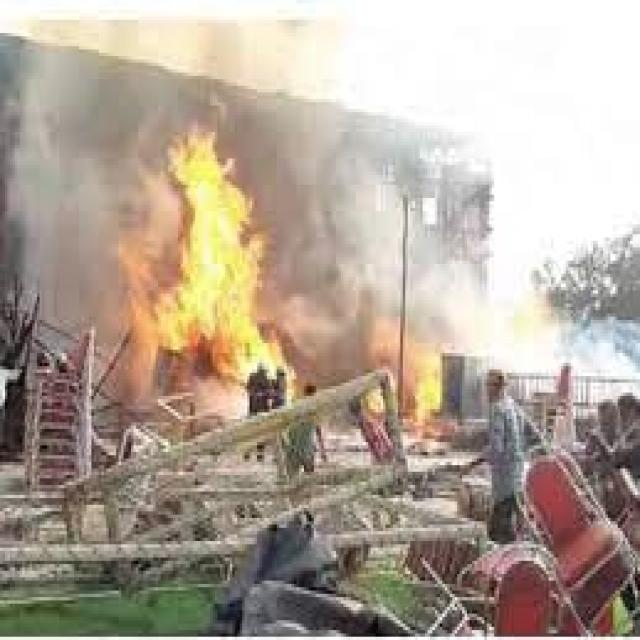fire: (153, 122, 297, 376), (403, 346, 450, 419)
smoke: (299, 96, 640, 379), (2, 7, 151, 340)
